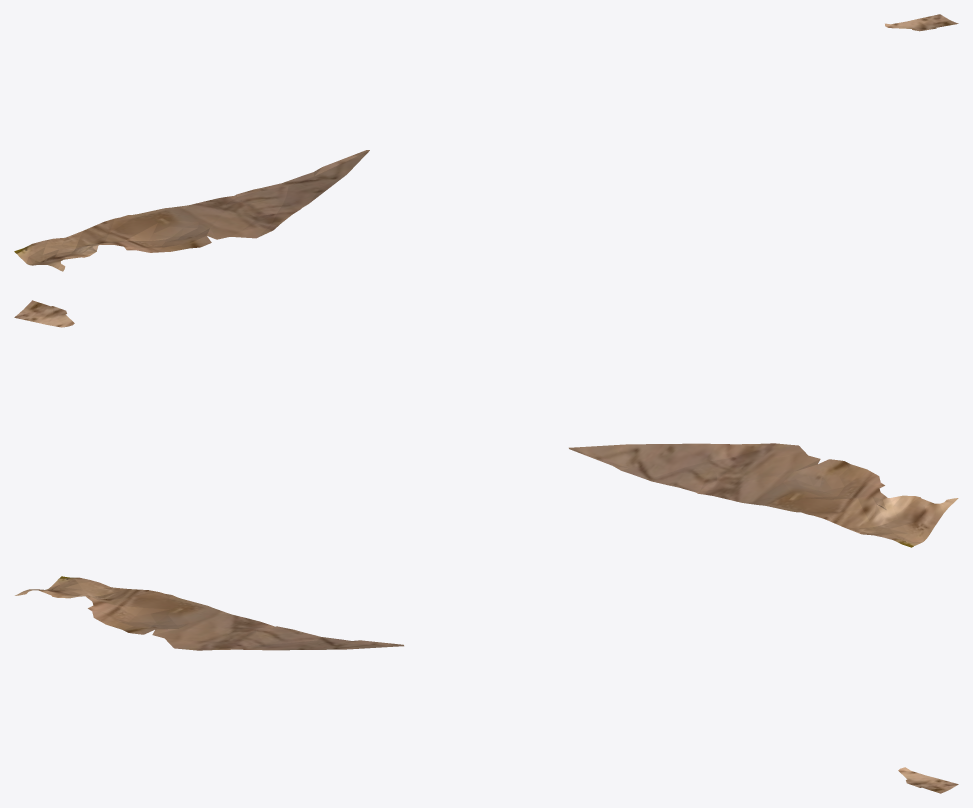
3 renders of one model, top to bottom at view 1: azimuth 30°, elevation 25°; view 2: azimuth 150°, elevation 25°; view 3: azimuth 330°, elevation 25°, orthographic. The views are drawn at different scales.
Bounding box in the file's own units: 2.09 × 0.0401 × 0.2465.
Materials: 1 (1 with a texture image).
